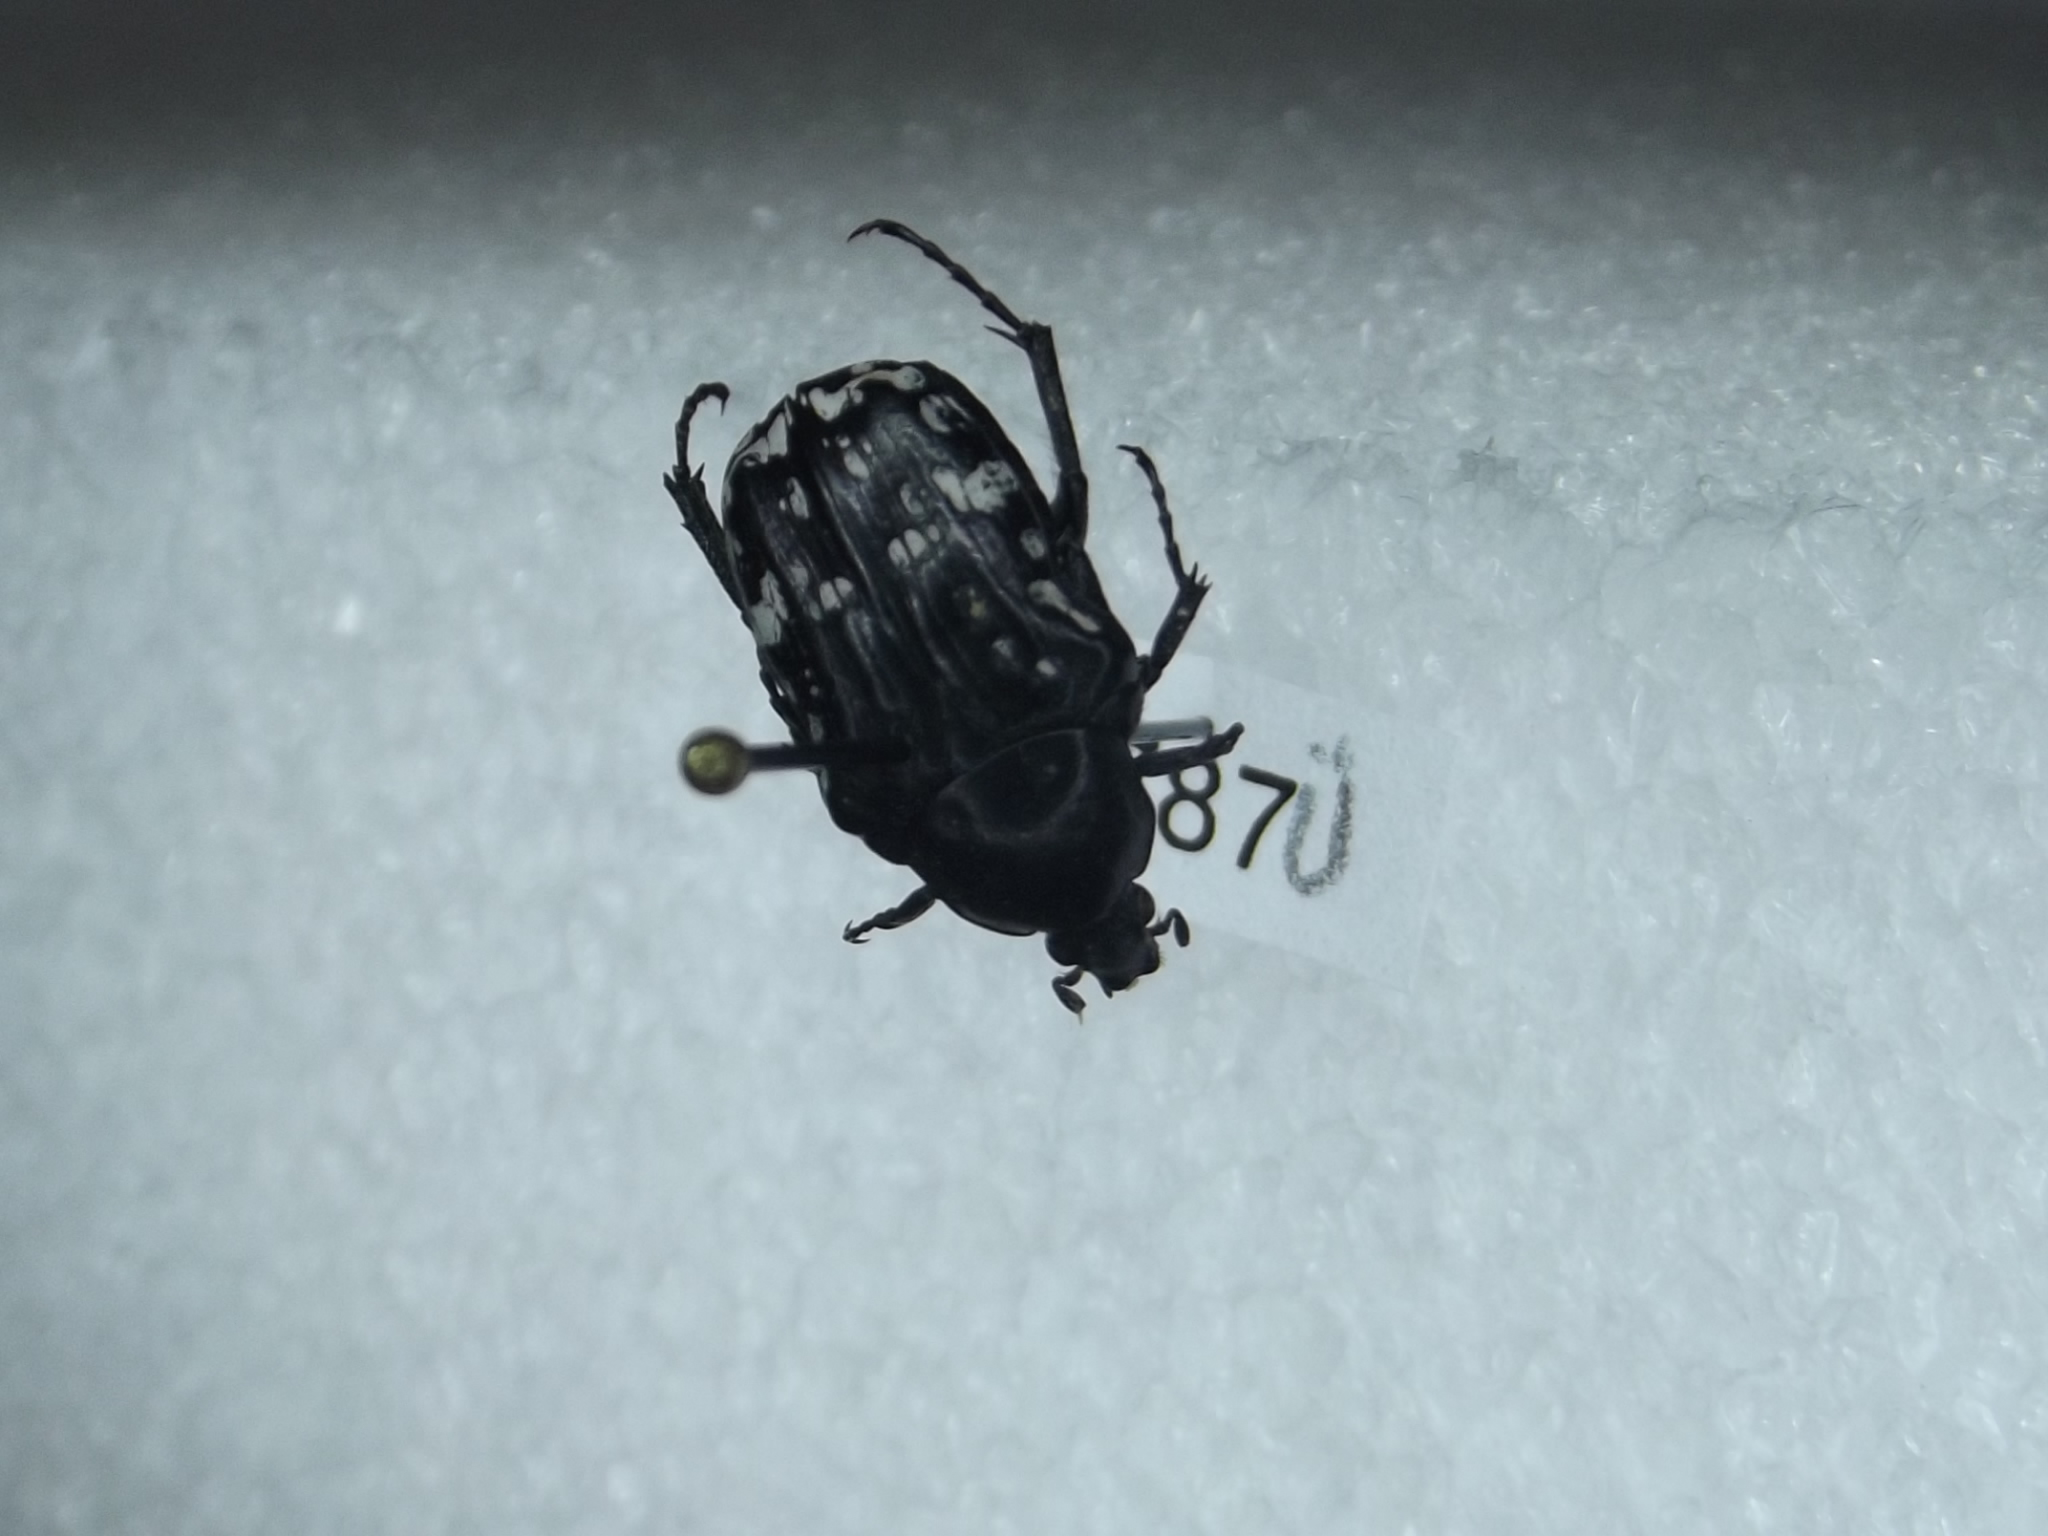Oxythyrea_albopicta: (610, 202, 1234, 1008)
